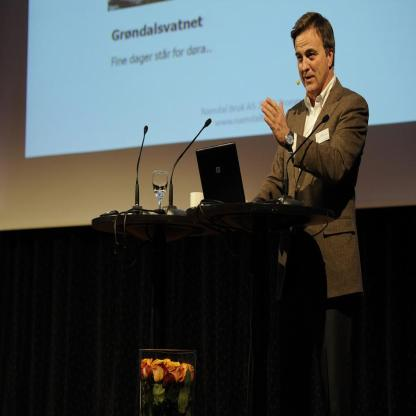board: (195, 142, 278, 208)
